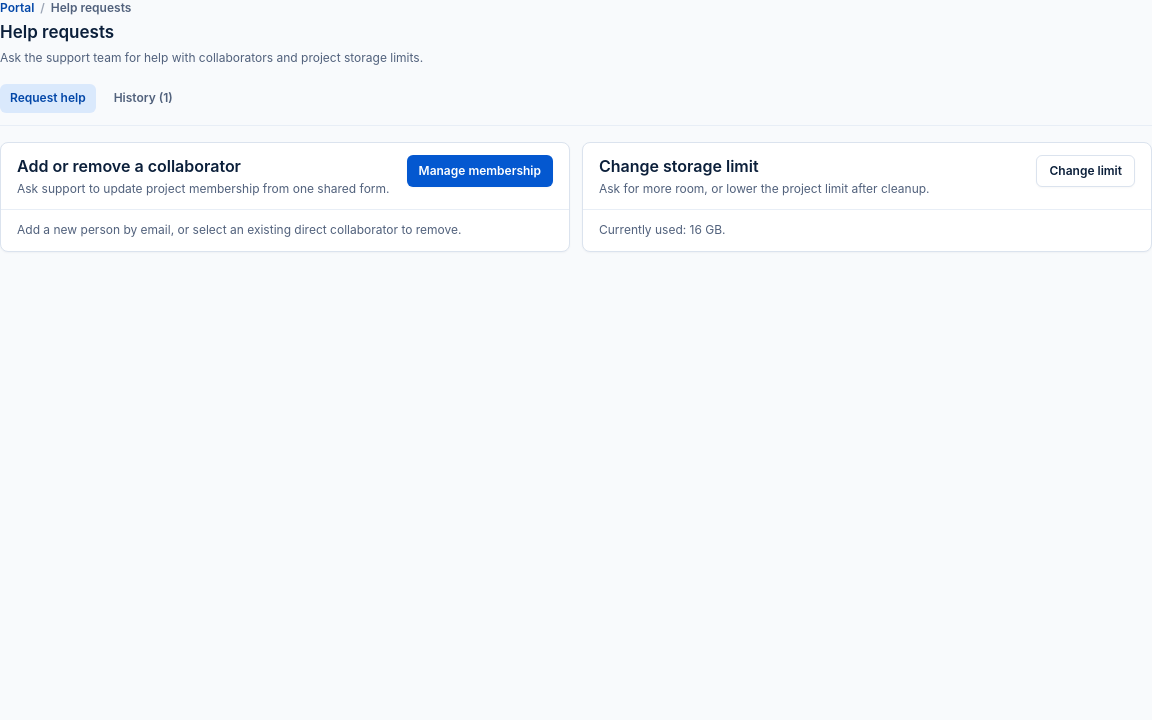
Test: PortalRequestsPage › separates manager request options from history and submits a collaborator access request from the shared modal
Expected: the heading "Help requests" is shown, top-left (0, 20), bottom-right (114, 44)
Expected: the tab "Request help" is shown, top-left (0, 84), bottom-right (96, 112)
Click the tab "History (1)" at (143, 98), box top-left (104, 84), bottom-right (183, 112)
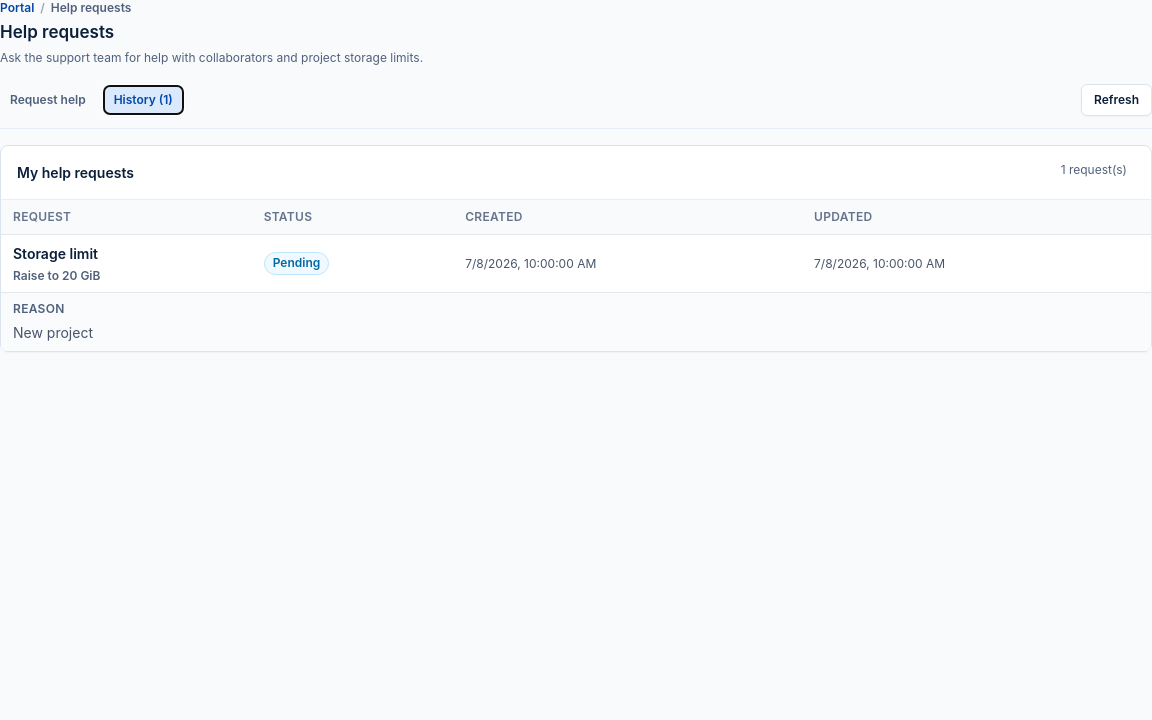
Expected: the text "Raise to 20 GiB" is shown, top-left (13, 268), bottom-right (100, 283)
Expected: the text "New project" is shown, top-left (13, 324), bottom-right (93, 341)
Click the tab "Request help" at (48, 100), box top-left (0, 86), bottom-right (96, 114)
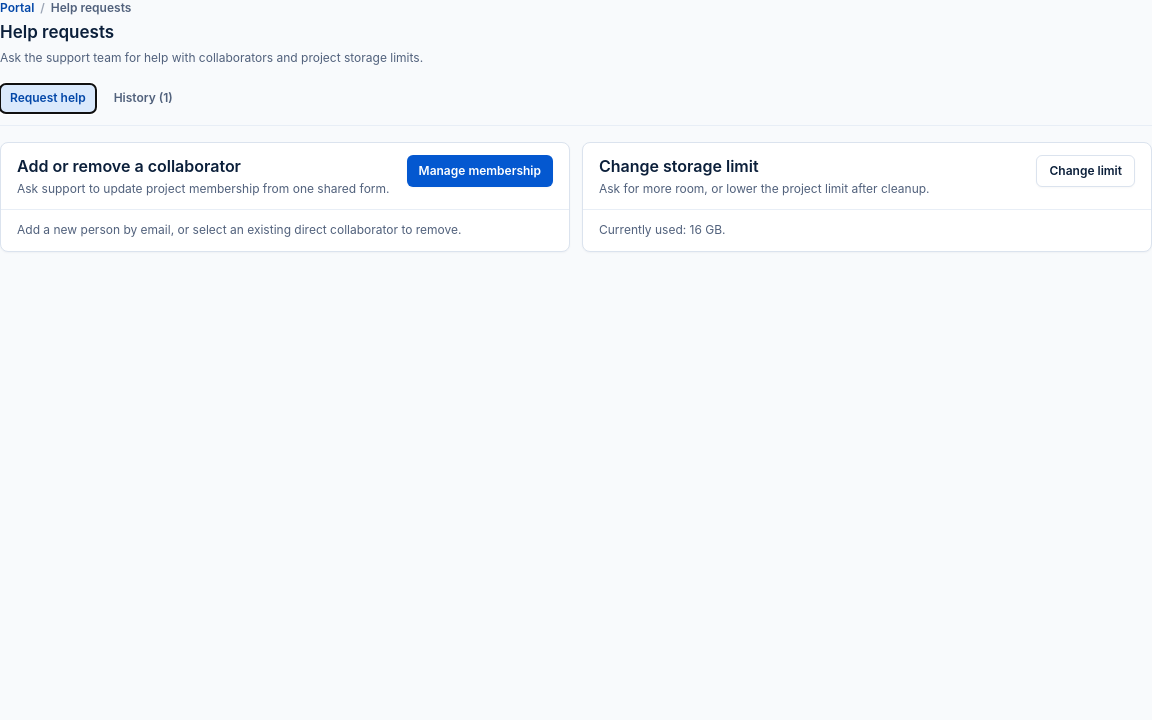
Click the button "Manage membership" at (480, 170), box top-left (407, 154), bottom-right (553, 186)
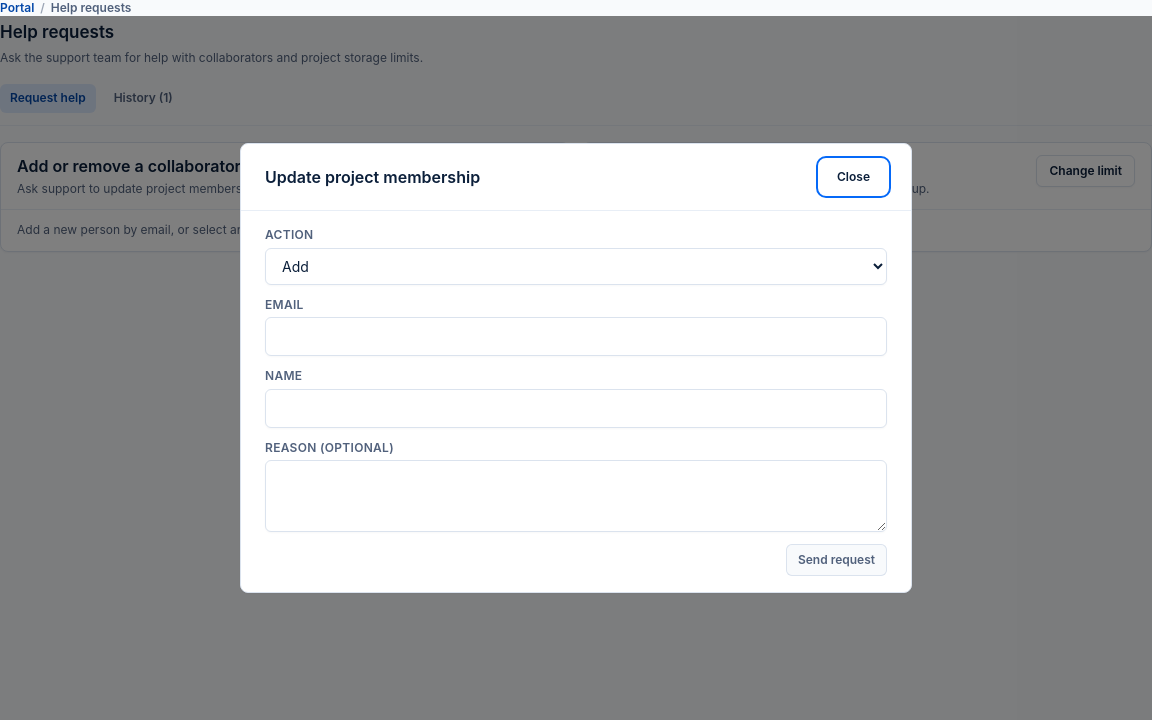
Type "jane@example.org" into the field labelled "Email" at (576, 337), box top-left (265, 317), bottom-right (887, 356)
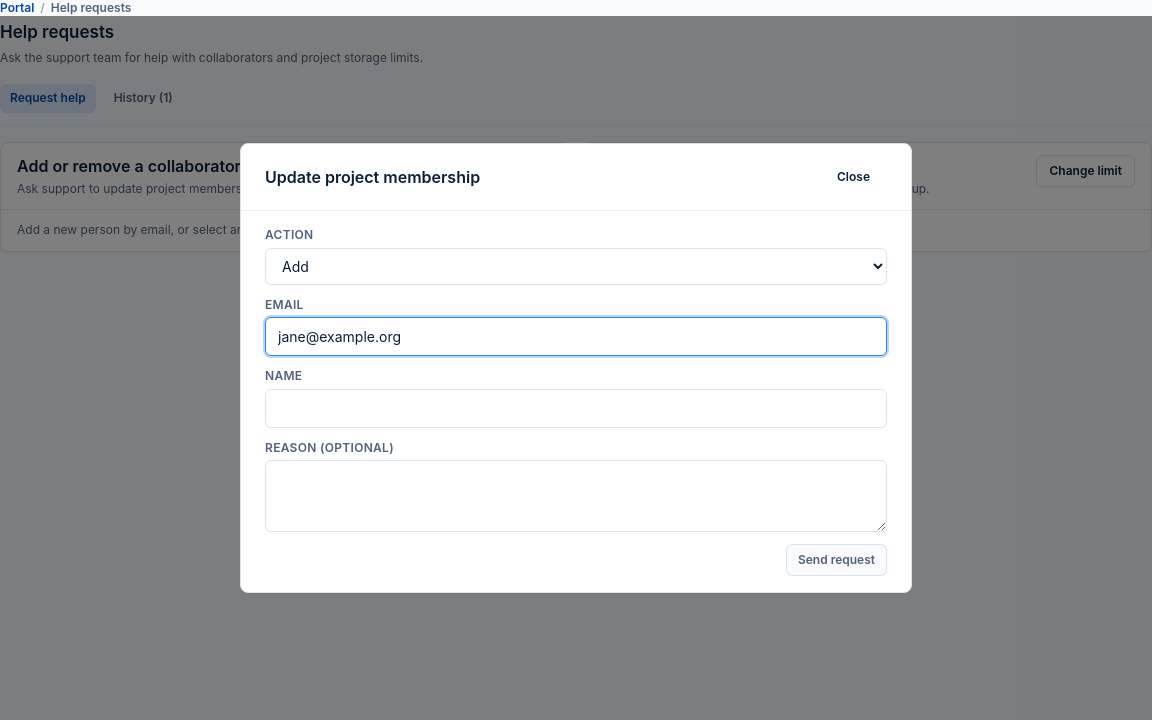
Type "Jane Viewer" into the field labelled "Name" at (576, 408), box top-left (265, 389), bottom-right (887, 428)
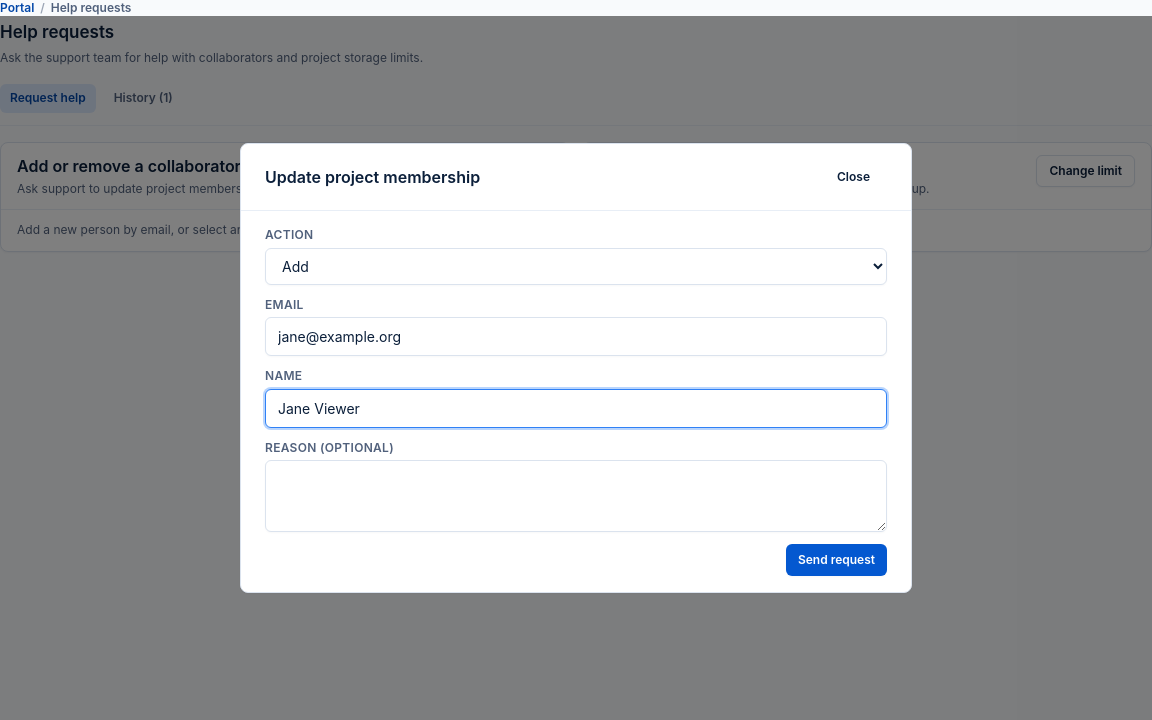
Click the button "Send request" at (836, 560), box top-left (786, 544), bottom-right (887, 576)
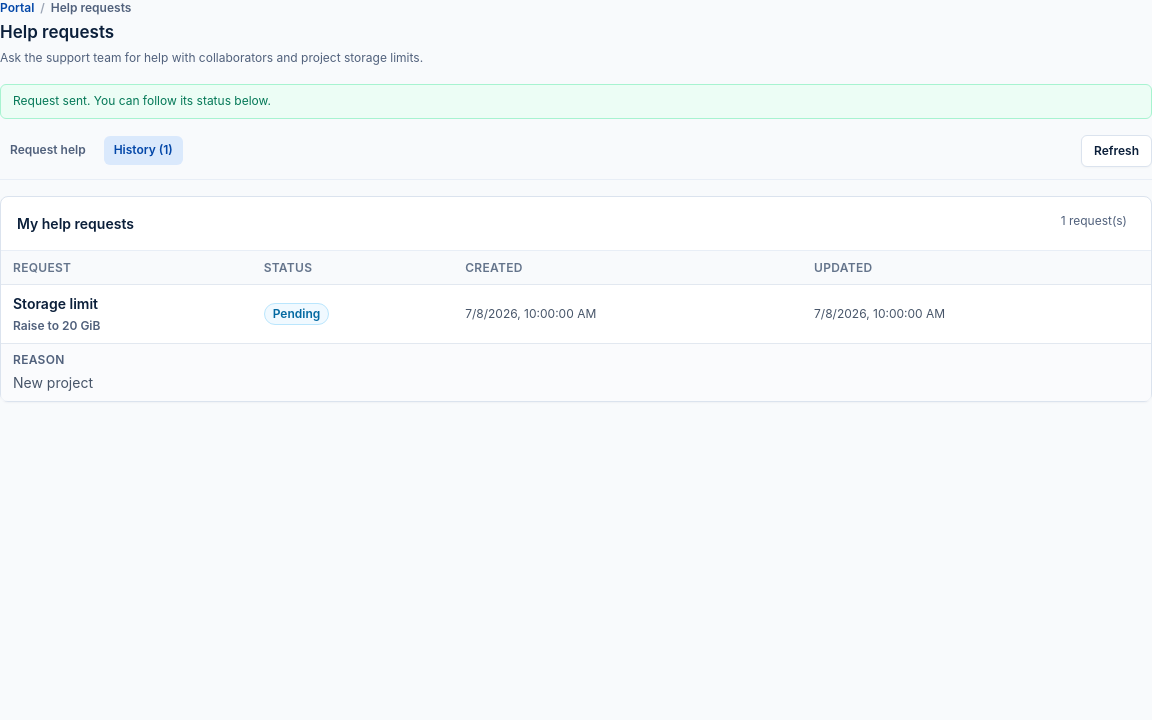
Expected: the text "Raise to 20 GiB" is shown, top-left (13, 318), bottom-right (100, 333)
